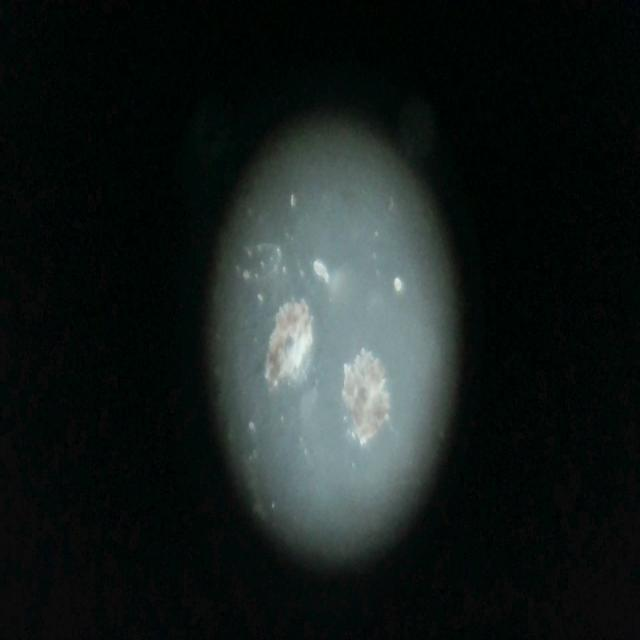alexandrium: (340, 346, 401, 446), (265, 300, 317, 400)
